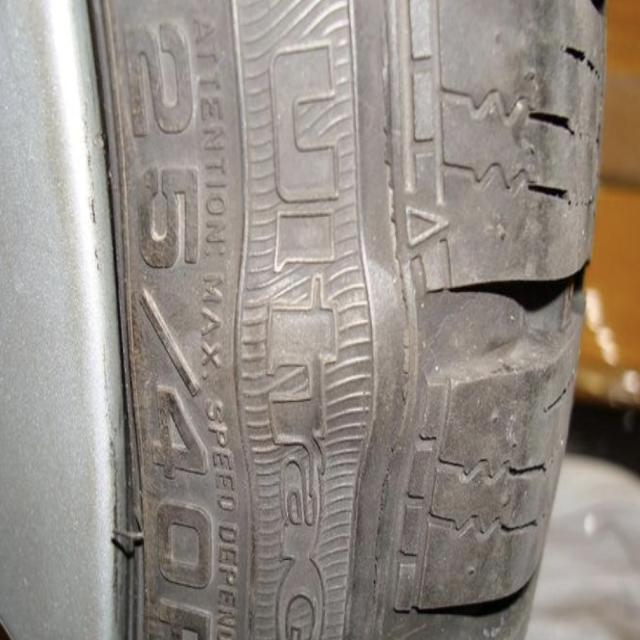Bulge: (220, 233, 418, 504)
